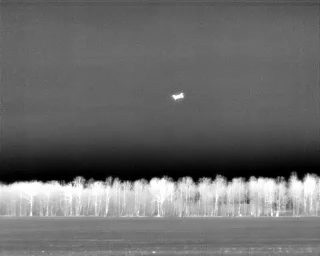DRONE: (168, 88, 189, 106)
